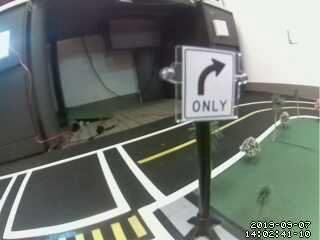Right_only_sign: (180, 46, 232, 118)
